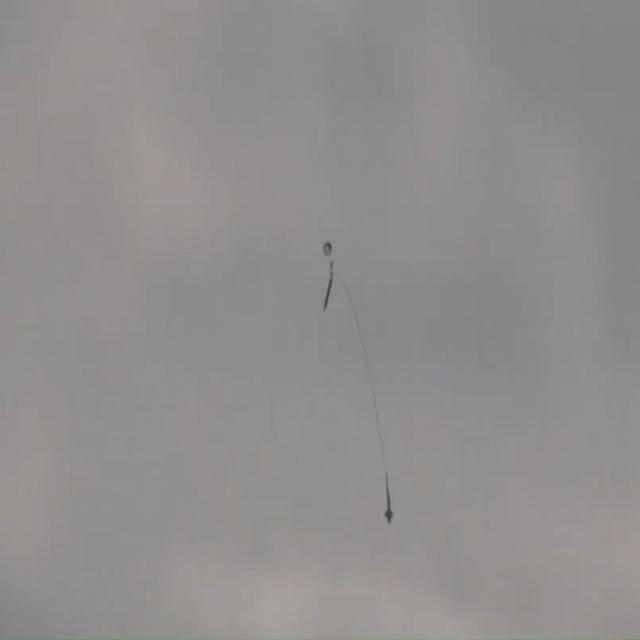Rocket: (385, 472, 393, 524)
